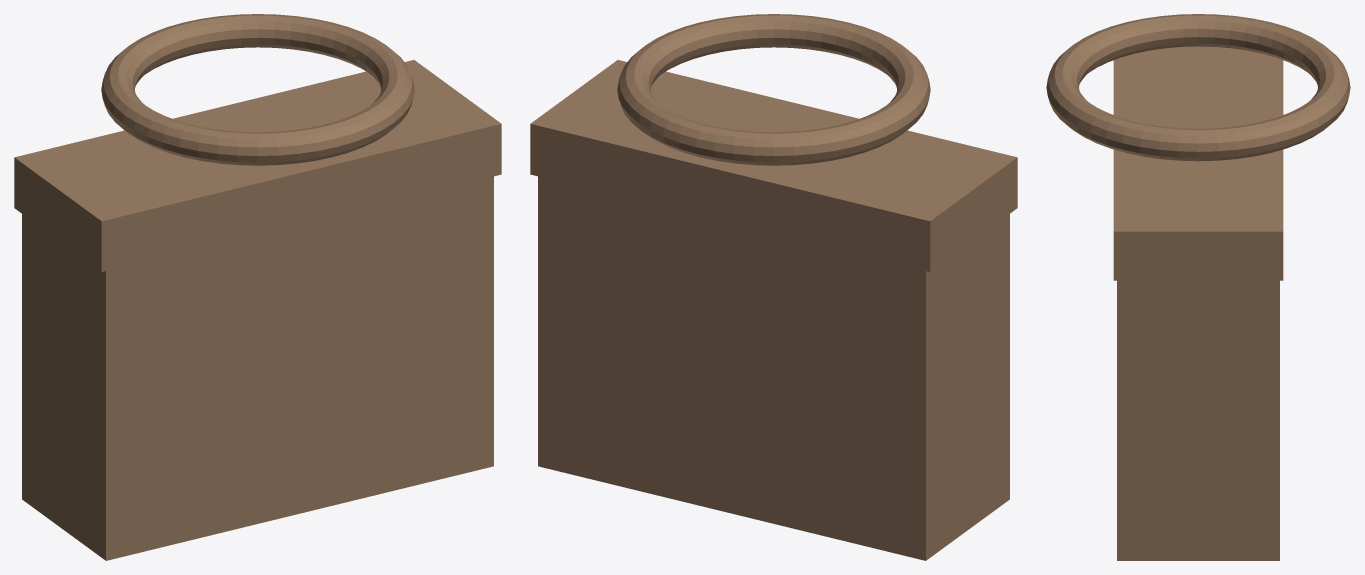
The model's file is c_handbag.glb.
3 views of the same model, side by side, from view 1: azimuth 30°, elevation 25°; view 2: azimuth 150°, elevation 25°; view 3: azimuth 270°, elevation 25° (orthographic). The views are drawn at different scales.
Visible parts, largest first — view 1: c_handbag; view 2: c_handbag; view 3: c_handbag.
Boxes of the visible parts, left/top/right/bottom form: c_handbag: left=14, top=14, right=501, bottom=560; c_handbag: left=530, top=14, right=1017, bottom=560; c_handbag: left=1046, top=14, right=1350, bottom=560.
Bounding box in the file's own units: 0.33 × 0.322 × 0.224.
